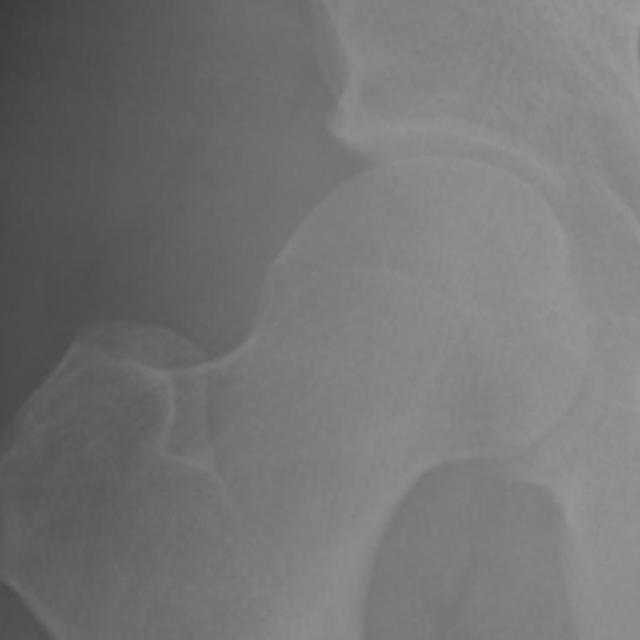Fitted_femural_head: (326, 153, 432, 326)
